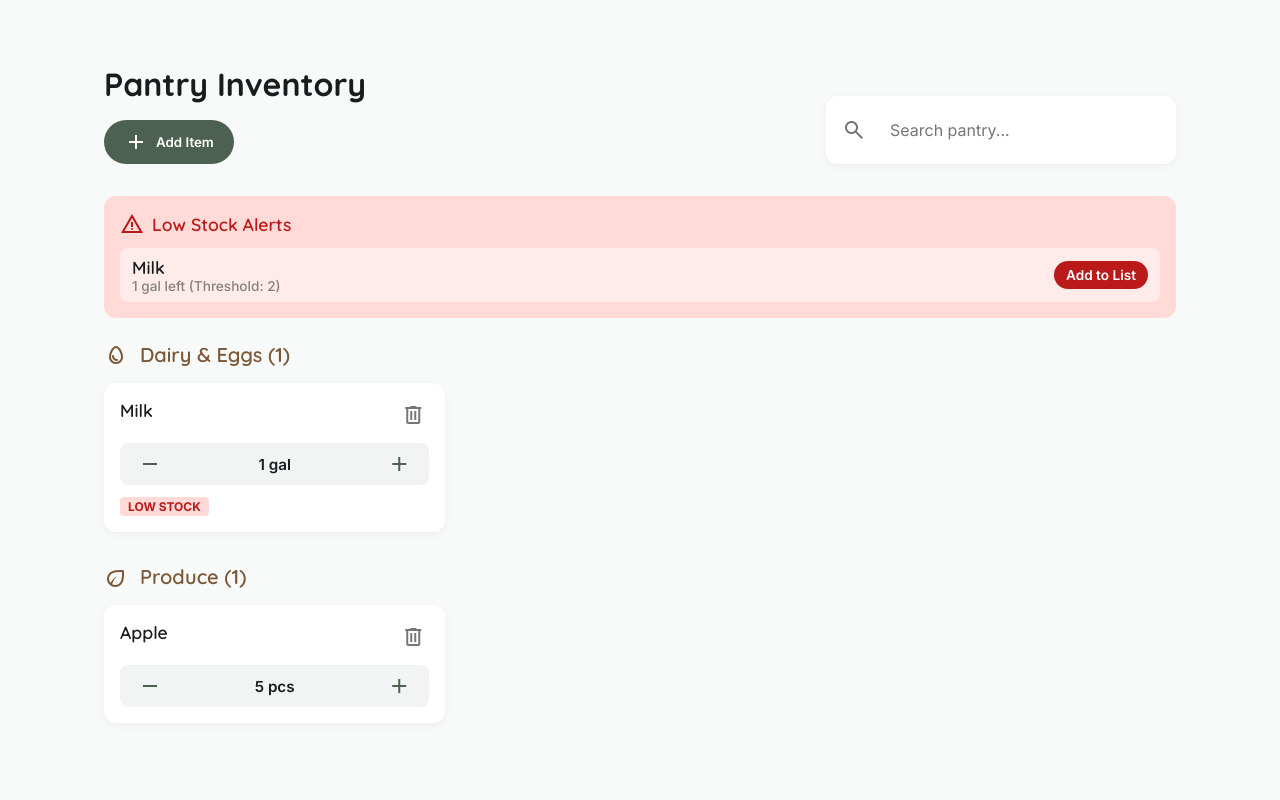
Test: Pantry Page › filters items by search query
Expected: the text "Apple" is shown, [120,621,168,643]
Type "Milk" into the field with placeholder "Search pantry..." at (1019, 130), box [878,108,1160,152]
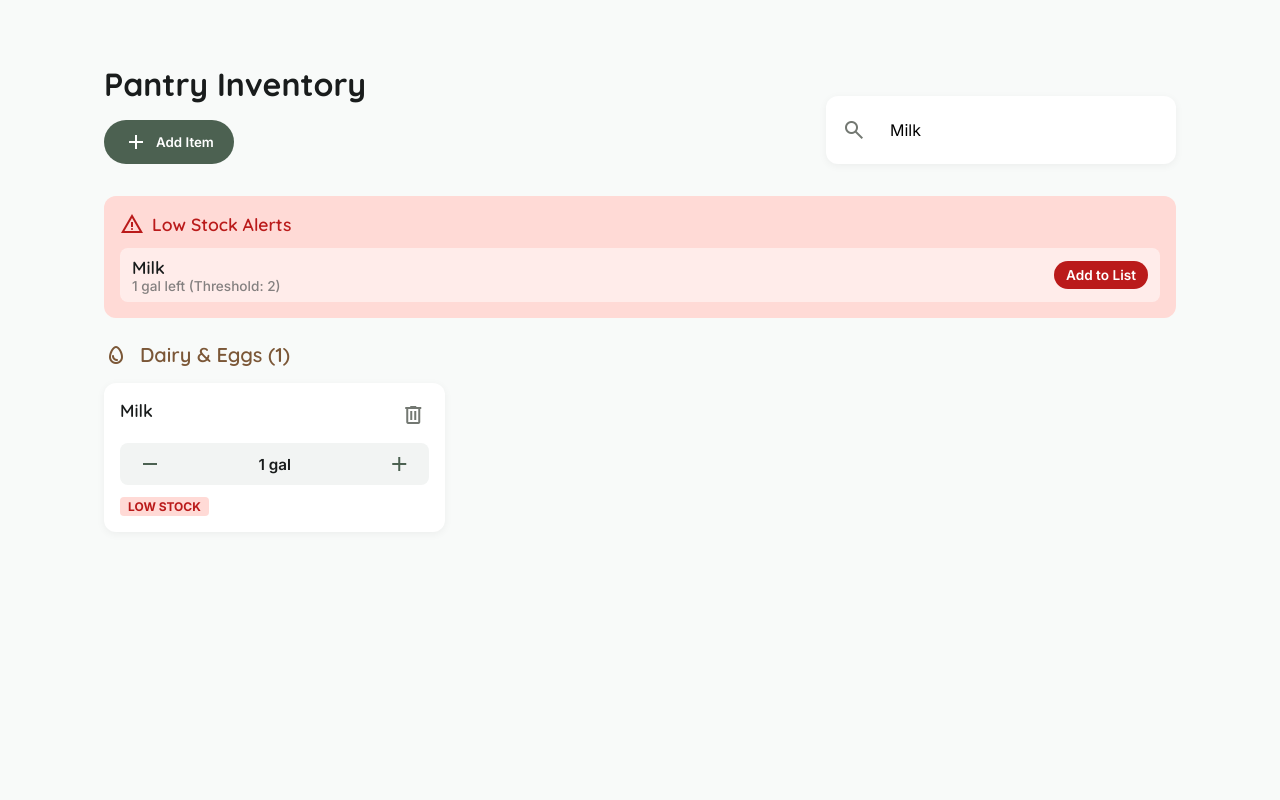
Expected: the text "Milk" below "Low Stock Alerts" is shown, [132,256,165,278]
Now the text "Apple" is gone
